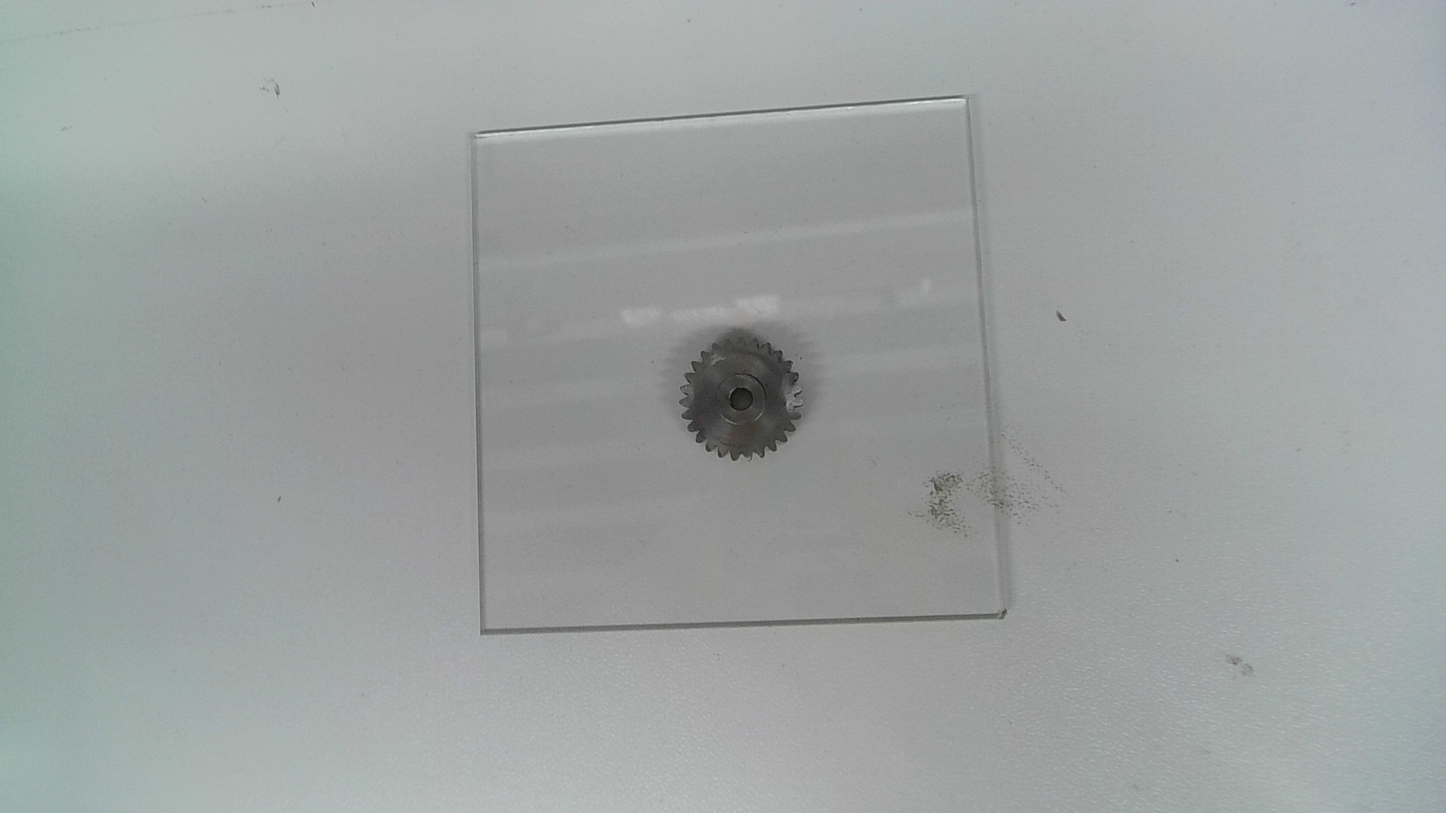gear: (678, 335, 803, 465)
